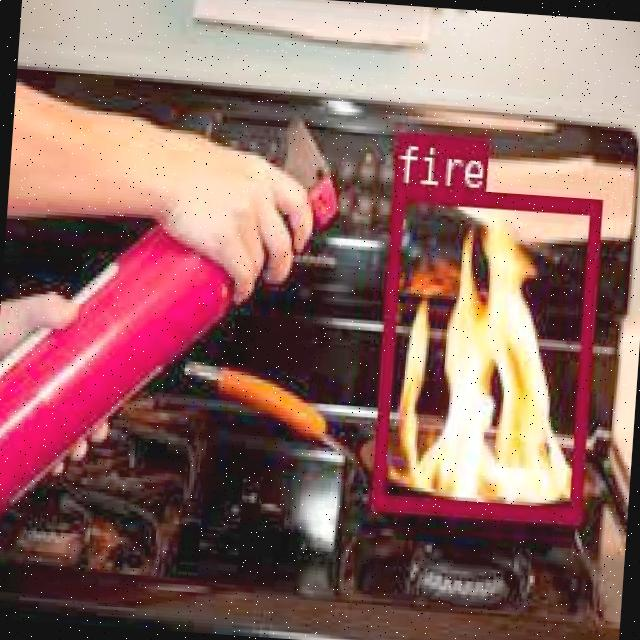fire: (369, 182, 600, 520)
